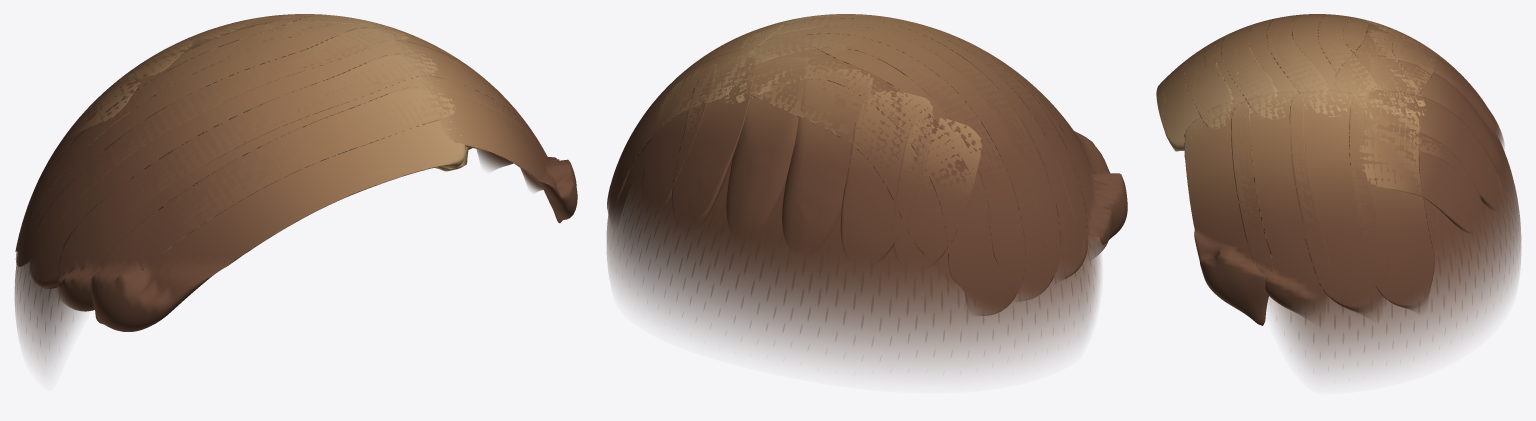
Rendered from Masculine-taper-cap258-hair-ombre.glb.
The picture shows the model from 3 angles, left to right: view 1: azimuth 30°, elevation 25°; view 2: azimuth 150°, elevation 25°; view 3: azimuth 270°, elevation 25°; orthographic projection. The views are drawn at different scales.
Visible parts, largest first — view 1: 226 hair / Hair258 / sculpted side sweep 1, 226 hair / Hair258 / sculpted side sweep 0, 226 hair / Hair258 / sculpted side sweep 2, 226 hair / Hair258 / smooth side fade; view 2: 226 hair / Hair258 / smooth side fade, 226 hair / Hair258 / sculpted side sweep 0, 226 hair / Hair258 / sculpted side sweep 1, 226 hair / Hair258 / sculpted side sweep 2, 226 hair / Hair258 / directional fade marks; view 3: 226 hair / Hair258 / sculpted side sweep 1, 226 hair / Hair258 / sculpted side sweep 0, 226 hair / Hair258 / sculpted side sweep 2, 226 hair / Hair258 / smooth side fade, 226 hair / Hair258 / directional fade marks.
Part boxes in pixels (x1,y1,x2,y2): 226 hair / Hair258 / sculpted side sweep 1: (15,14,577,331); 226 hair / Hair258 / sculpted side sweep 0: (15,14,559,311); 226 hair / Hair258 / sculpted side sweep 2: (29,18,513,288); 226 hair / Hair258 / smooth side fade: (15,260,82,368); 226 hair / Hair258 / smooth side fade: (607,140,1100,372); 226 hair / Hair258 / sculpted side sweep 0: (672,14,1112,315); 226 hair / Hair258 / sculpted side sweep 1: (607,18,1127,301); 226 hair / Hair258 / sculpted side sweep 2: (616,14,1088,279); 226 hair / Hair258 / directional fade marks: (618,150,1094,346); 226 hair / Hair258 / sculpted side sweep 1: (1156,14,1504,325); 226 hair / Hair258 / sculpted side sweep 0: (1184,14,1503,316); 226 hair / Hair258 / sculpted side sweep 2: (1221,14,1504,313); 226 hair / Hair258 / smooth side fade: (1268,128,1521,375); 226 hair / Hair258 / directional fade marks: (1291,128,1516,357).
Size of the model in its own units: 0.9706 by 0.584 by 0.7197.
